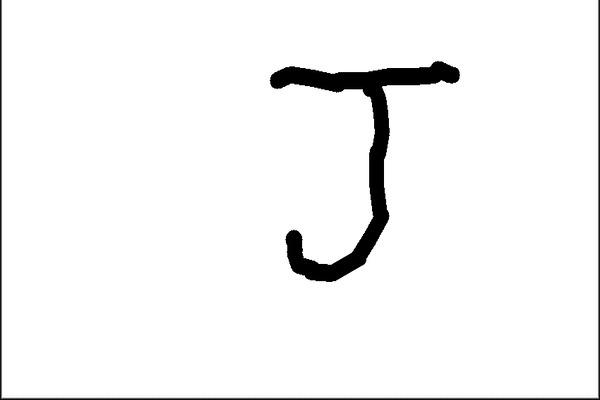J: (264, 54, 463, 287)
